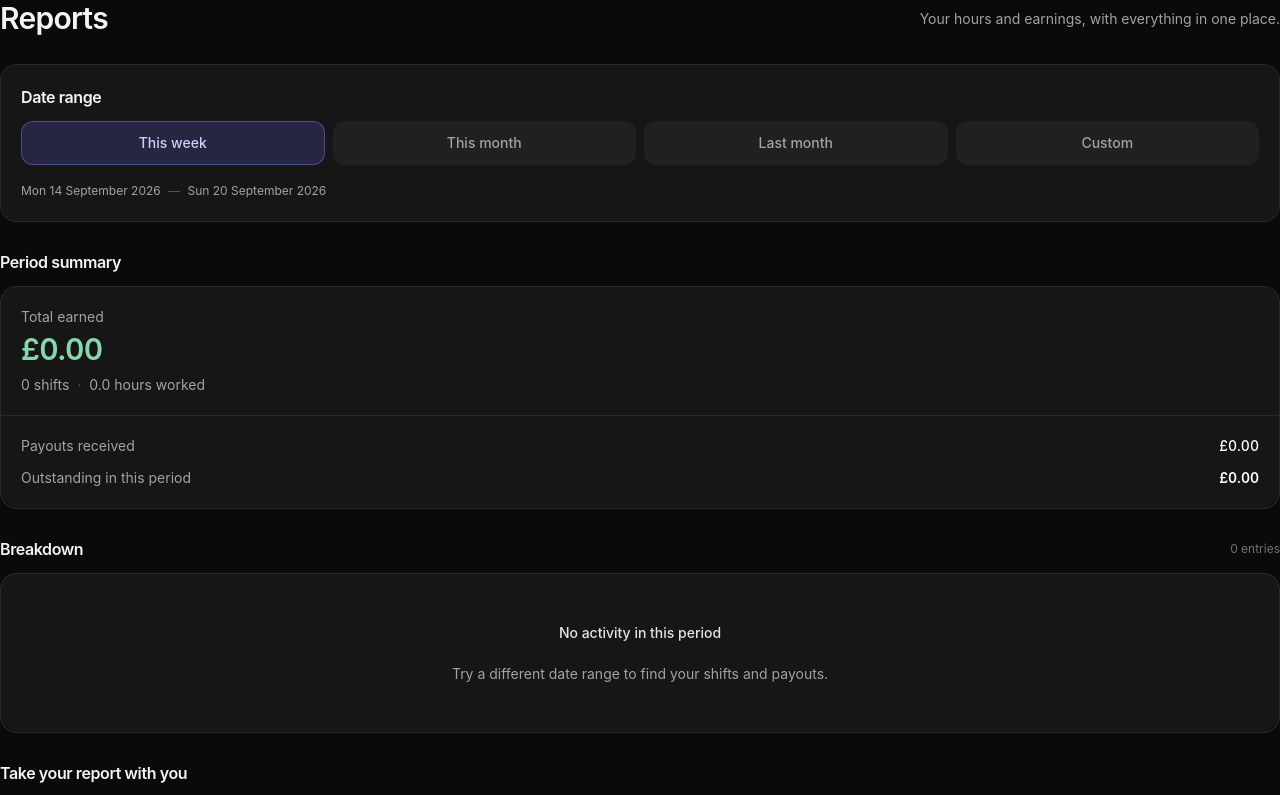
report date range › blocks exports when either date is cleared
The width and height of the screenshot is (1280, 795).
Click the button "Custom".
click(1107, 143)  # box [956,121,1259,165]
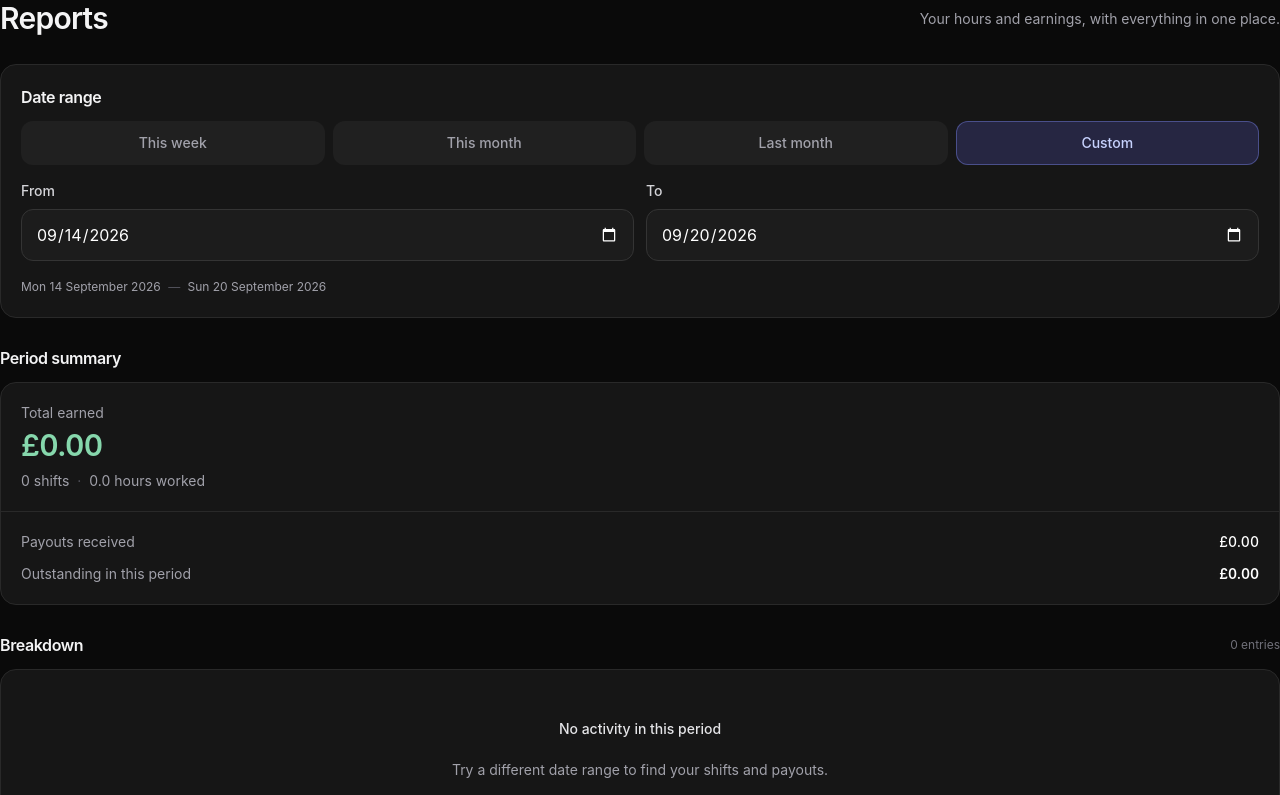
Clear the date field labelled "From" at (328,235), box [21,209,634,261]
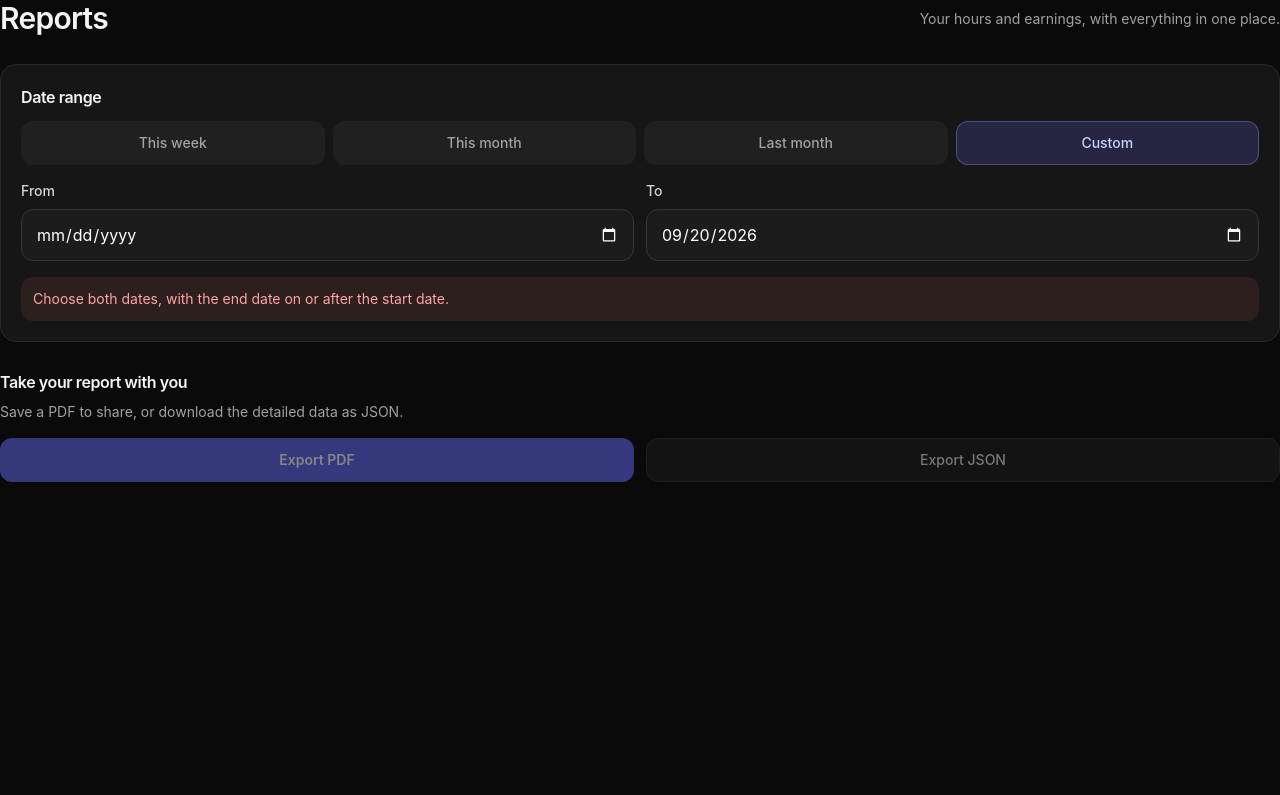
Expected: the message "Choose both dates, with the end date on or after the start date." is shown, [21,277,1259,321]
Expected: the button "Export PDF" is disabled, [0,438,634,482]
